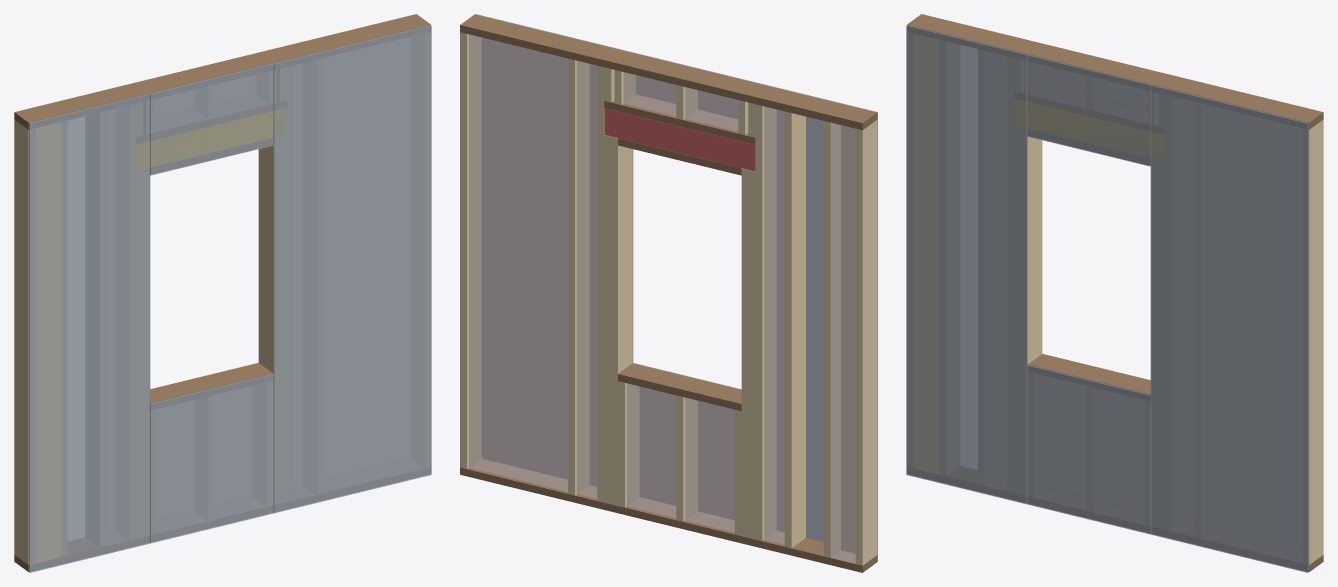
The picture shows the model from 3 angles, left to right: view 1: azimuth 30°, elevation 25°; view 2: azimuth 150°, elevation 25°; view 3: azimuth 330°, elevation 25°; orthographic projection.
Parts seen in each view (by area): view 1: EX12 FF; view 2: EX12 FF; view 3: EX12 FF.
Boxes of the visible parts, box(x1,y1,x2,y2) form: EX12 FF: box(14, 14, 431, 572); EX12 FF: box(460, 14, 877, 572); EX12 FF: box(906, 14, 1323, 572).
Bounding box in the file's own units: 2.23 × 2.38 × 0.149.
